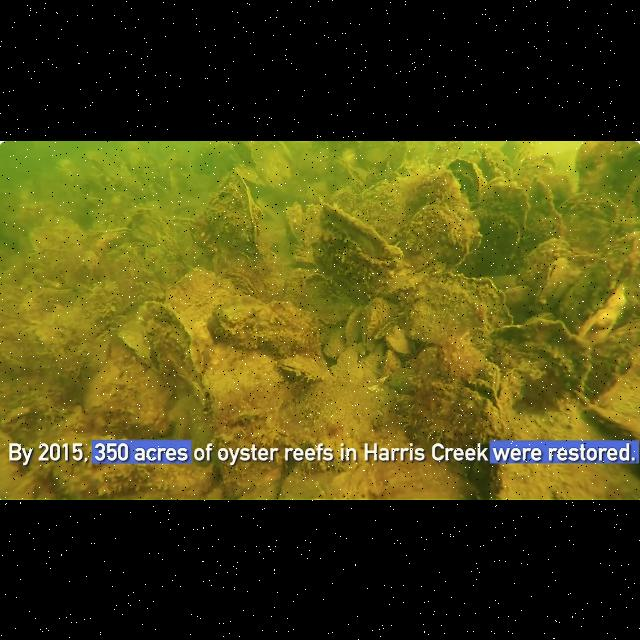Oyster-Closed: (386, 339, 505, 460), (34, 439, 216, 498), (401, 270, 511, 349), (493, 318, 591, 401), (203, 344, 286, 440), (191, 170, 263, 259), (138, 300, 203, 394), (395, 204, 479, 268), (98, 243, 165, 306), (165, 268, 235, 324), (395, 169, 470, 214), (208, 295, 271, 348), (30, 216, 86, 273), (579, 283, 626, 344), (518, 238, 573, 286), (479, 211, 520, 274), (480, 178, 530, 229), (601, 230, 639, 294), (536, 256, 580, 311), (584, 403, 639, 439), (361, 296, 399, 348), (84, 359, 121, 411), (146, 233, 188, 276), (128, 206, 173, 245), (448, 158, 486, 203), (505, 285, 535, 323), (86, 333, 113, 373), (59, 345, 89, 378), (466, 464, 496, 496), (345, 305, 366, 344), (385, 324, 413, 353), (324, 326, 346, 358)
Oyster-Open: (314, 203, 414, 296), (576, 140, 639, 212), (278, 354, 330, 380), (90, 226, 131, 254), (220, 270, 259, 297), (3, 406, 36, 433), (285, 446, 315, 460)
